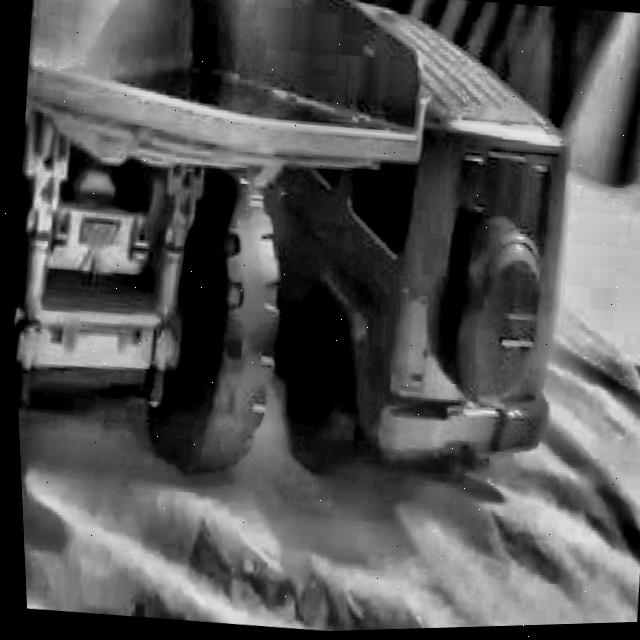dump_truck: (0, 0, 433, 525)
light_vehicle: (391, 56, 602, 464)
